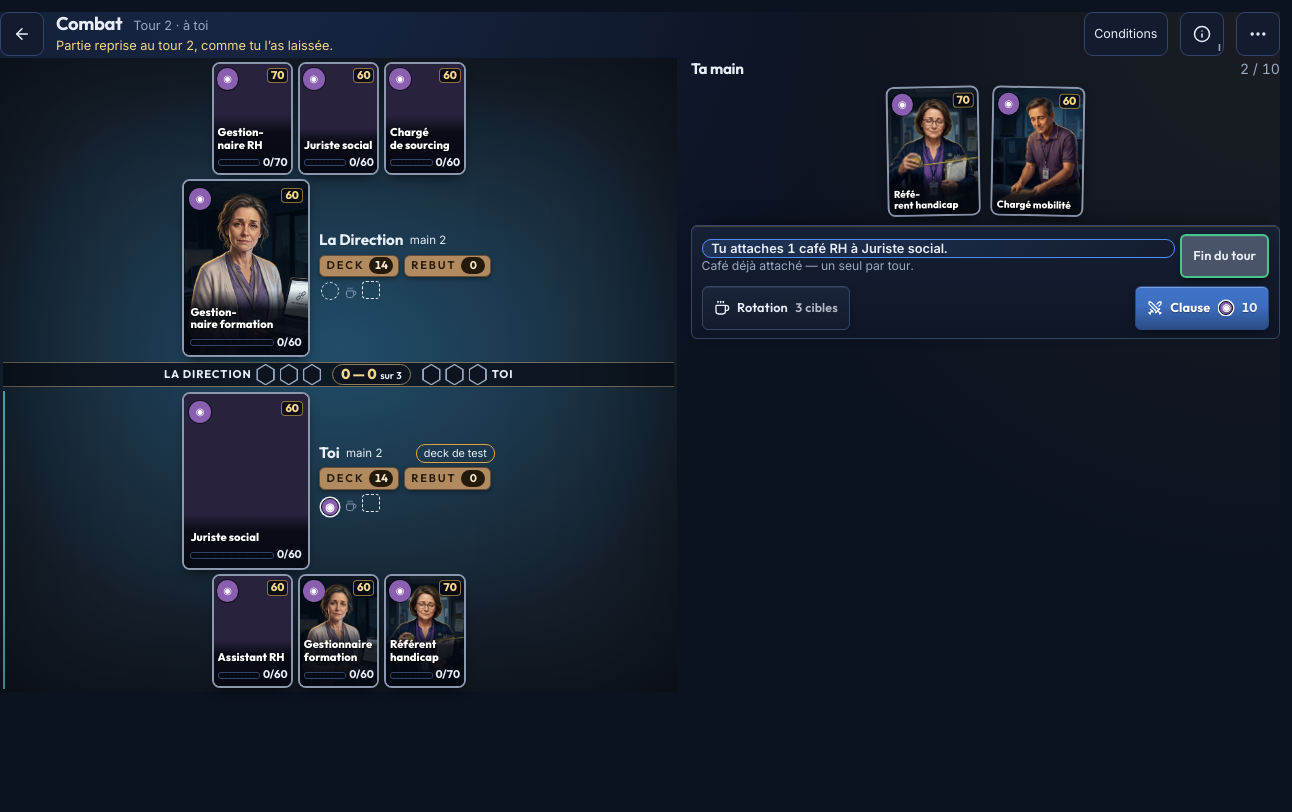
Test: Battle — l’arc de Condition et son repli (T11, #294) › sous « Mouvement réduit » : aucun arc, et le badge nommé dit la Condition
This screenshot has width=1292, height=812.
Click the button "Clause ◉︎ 10" at x=1202, y=308, box [1135,286,1269,330]
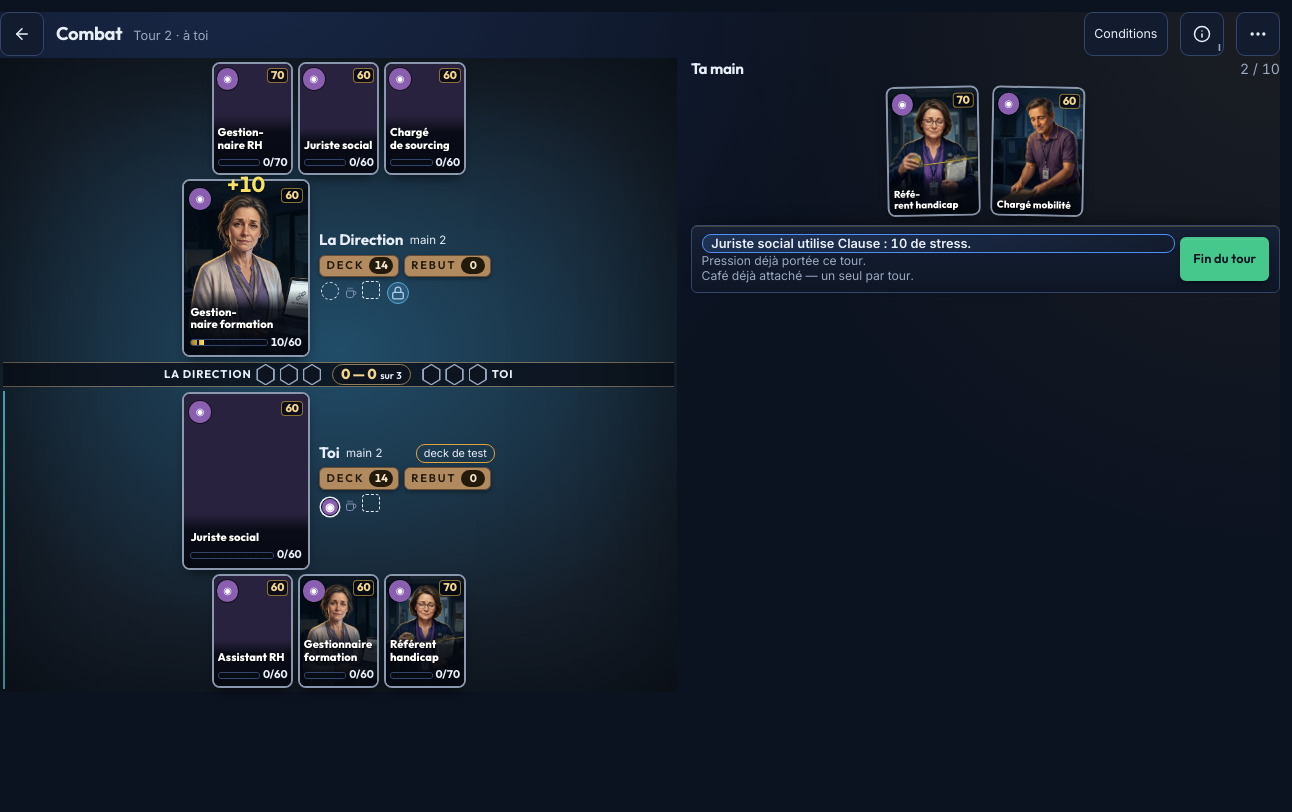
Expected: the element with class "status-chip" is shown, [387,282,409,304]
